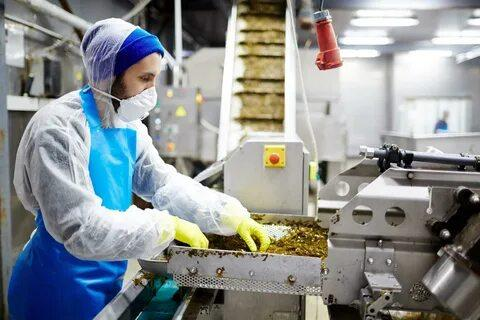hairnet: (74, 5, 140, 83)
mask: (126, 87, 192, 145)
